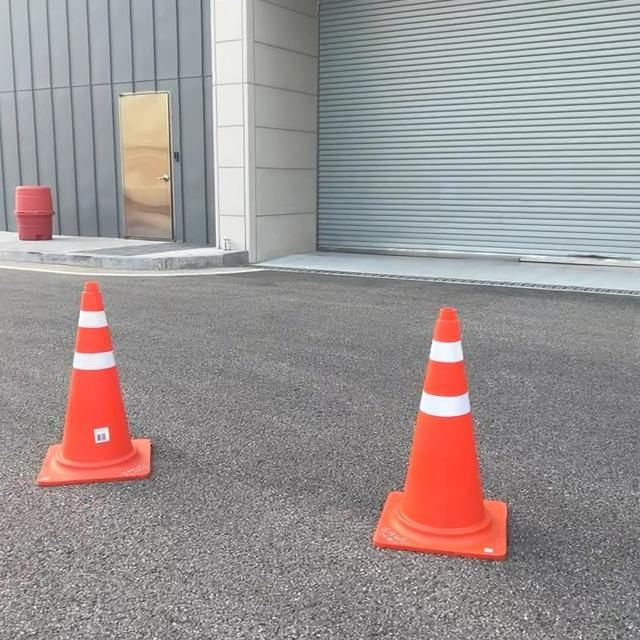fallen_object: (335, 297, 533, 565), (3, 273, 180, 489)
